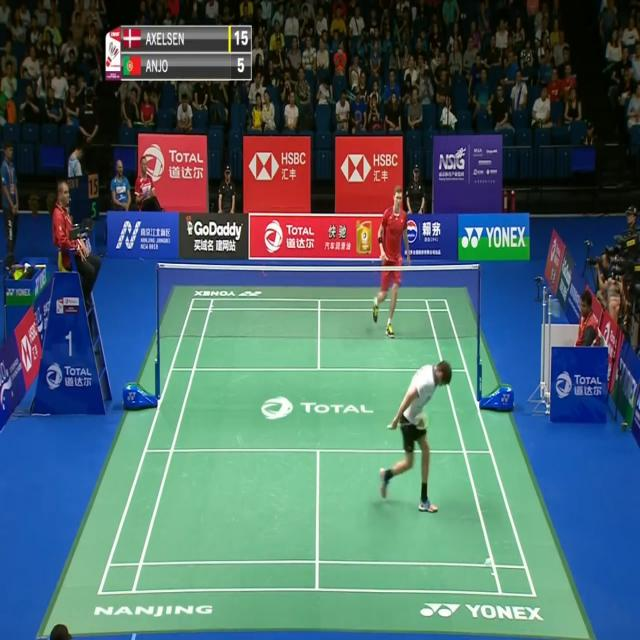Player1: (375, 354, 451, 521)
Player2: (370, 182, 414, 344)
